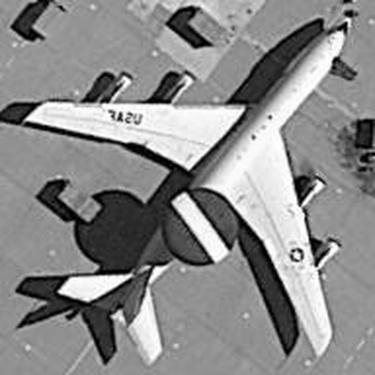airplane: (17, 13, 351, 366)
